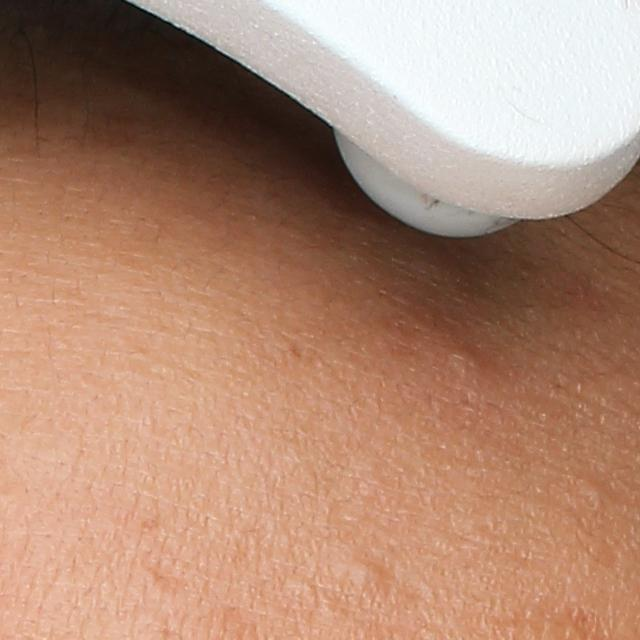comedo: (349, 550, 389, 592), (577, 474, 612, 507), (450, 346, 486, 376)
